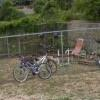Bicycle: (9, 50, 60, 87)
